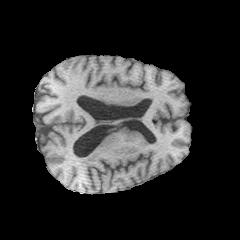glioma: (77, 125, 138, 169)
